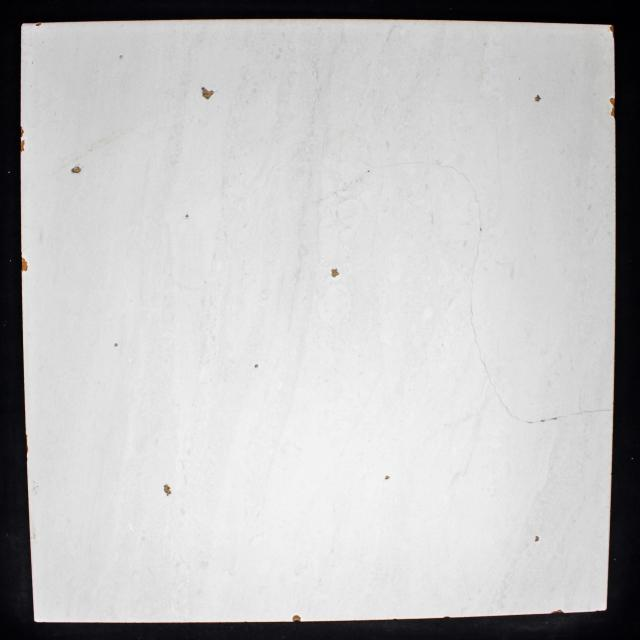edge-chipping: (21, 256, 29, 273), (609, 97, 615, 117), (20, 139, 26, 153), (608, 25, 614, 38), (292, 614, 301, 622), (552, 608, 564, 614), (20, 126, 24, 138)
hole: (200, 86, 216, 100), (162, 483, 172, 497), (70, 164, 82, 174), (330, 268, 341, 278), (534, 93, 542, 103), (535, 535, 541, 542), (384, 475, 390, 480), (184, 214, 190, 218), (114, 342, 118, 347), (119, 54, 123, 59), (254, 364, 259, 368)
line: (468, 279, 482, 357), (469, 197, 483, 275), (362, 160, 448, 170), (482, 361, 501, 402), (502, 402, 528, 422), (560, 409, 611, 419), (452, 167, 472, 183)
